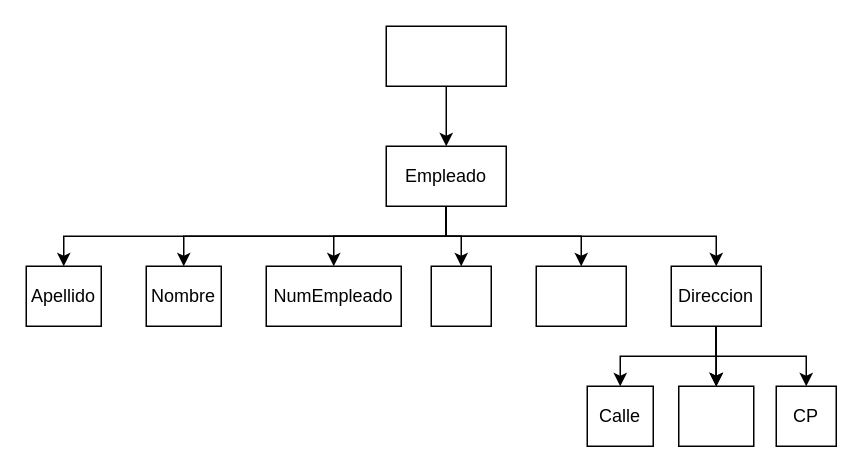
The diagram is 863 pixels wide and 473 high, and some of its shapes have lost their labels. The centre of each missing label's shape, as x and y in pixels:
Ciudad: point 715,415
Email: point 460,295
Empresa: point 445,55
Telefono: point 580,295
